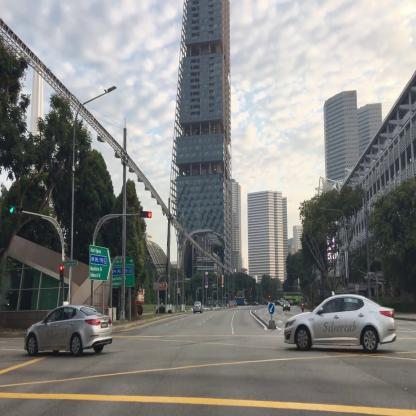red_traffic_light: (140, 210, 152, 218)
